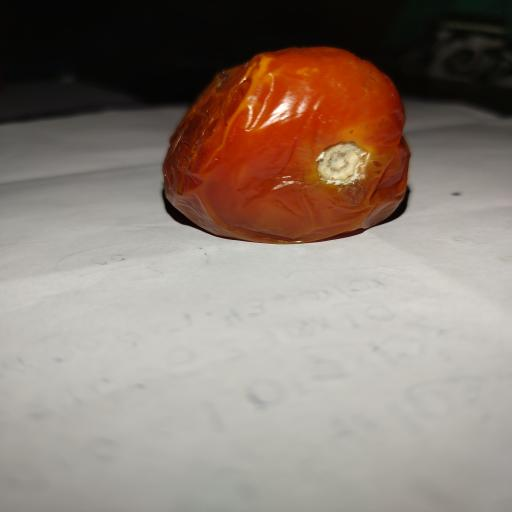spoiled: (163, 47, 409, 243)
